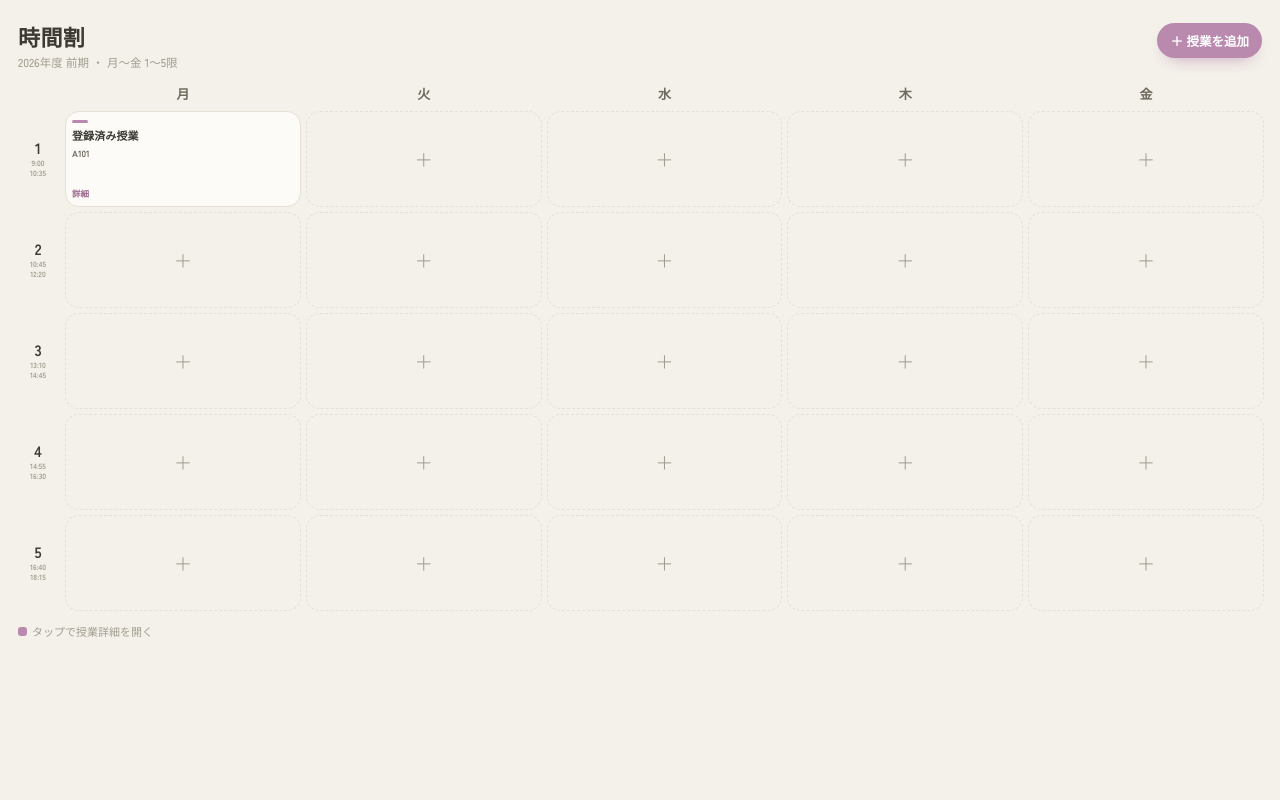
TimetablePage — マッチング導線 › 登録済み授業セルから詳細を開き、大きいマッチング操作で対象授業の画面へ遷移する
Click the button with aria-label "「登録済み授業」の詳細を開く": click(183, 159) [65,111,301,207]
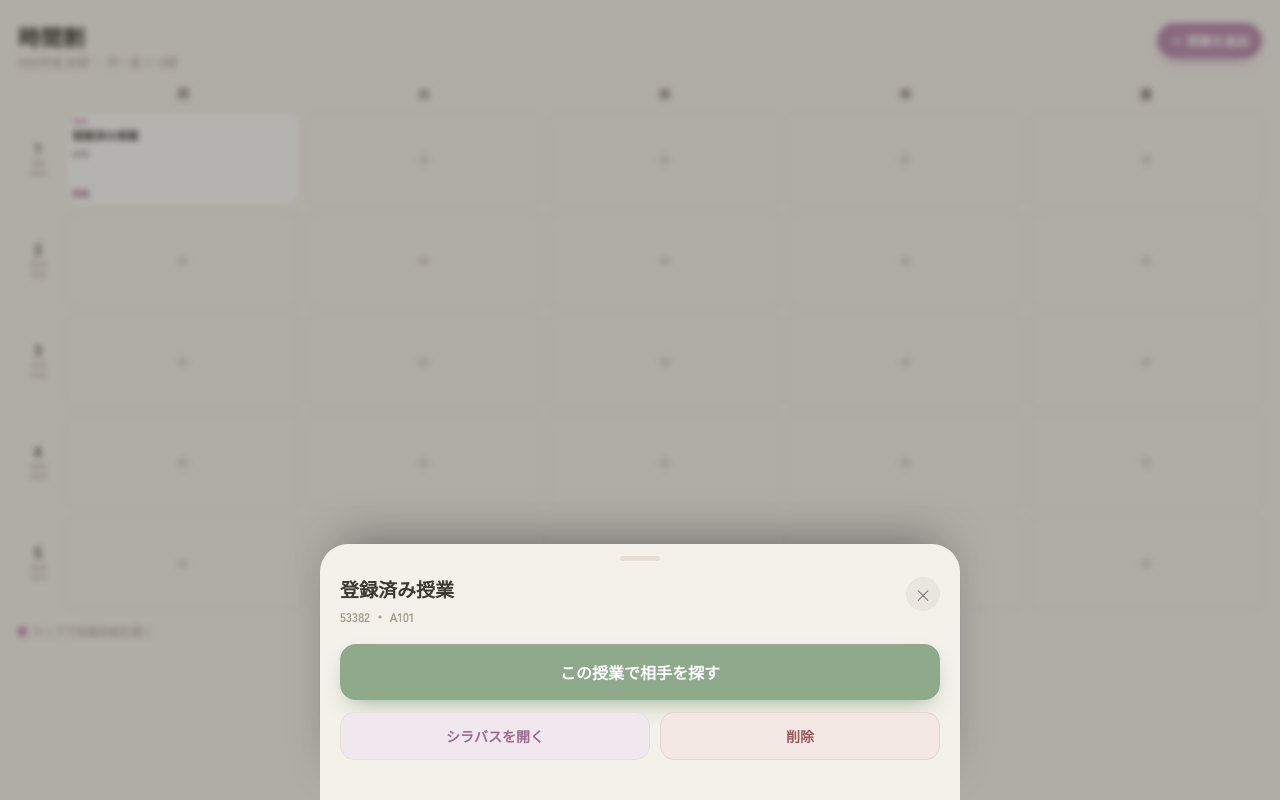
Expected: the button with aria-label "「登録済み授業」のマッチングを探す" reads "この授業で相手を探す"
Click the button with aria-label "「登録済み授業」のマッチングを探す": click(640, 672) [340,644,940,700]
(page scrolled)
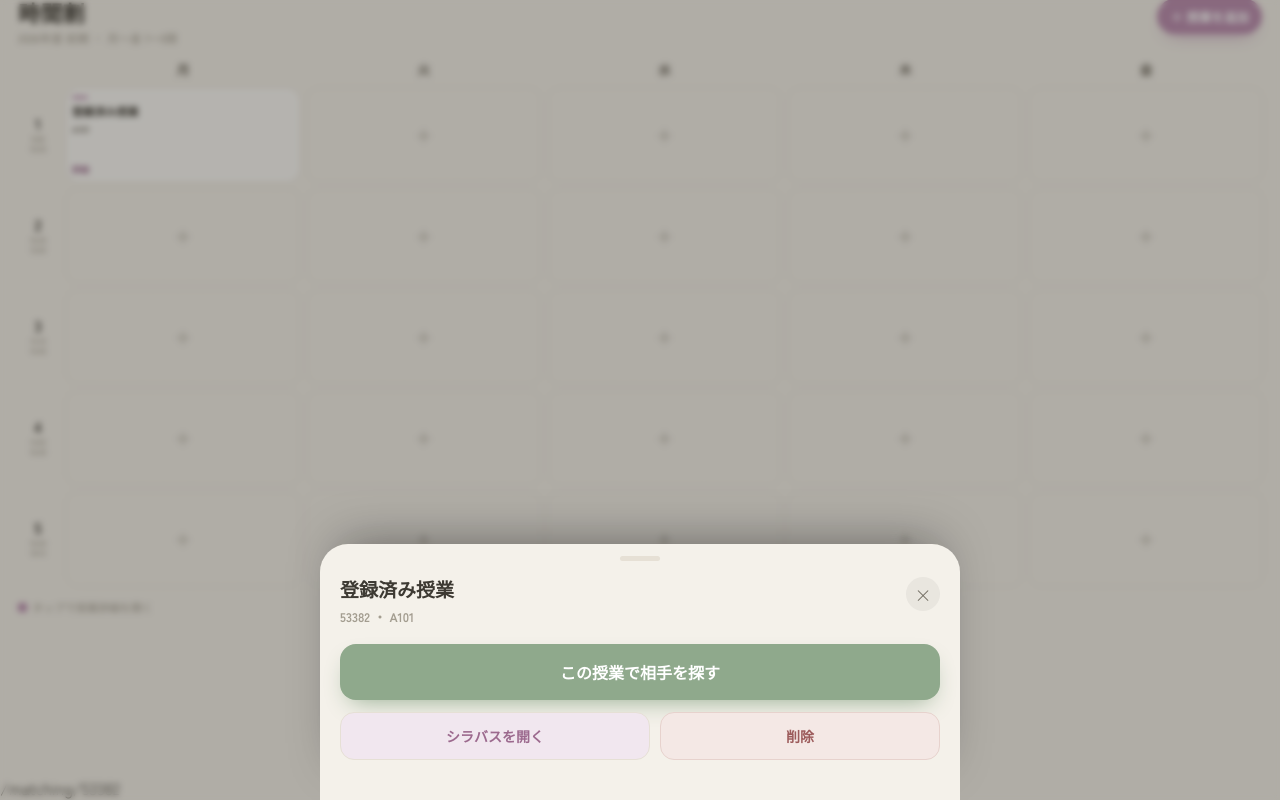
Expected: the text with test id "pathname" reads "/matching/53382", [0,776,120,799]
